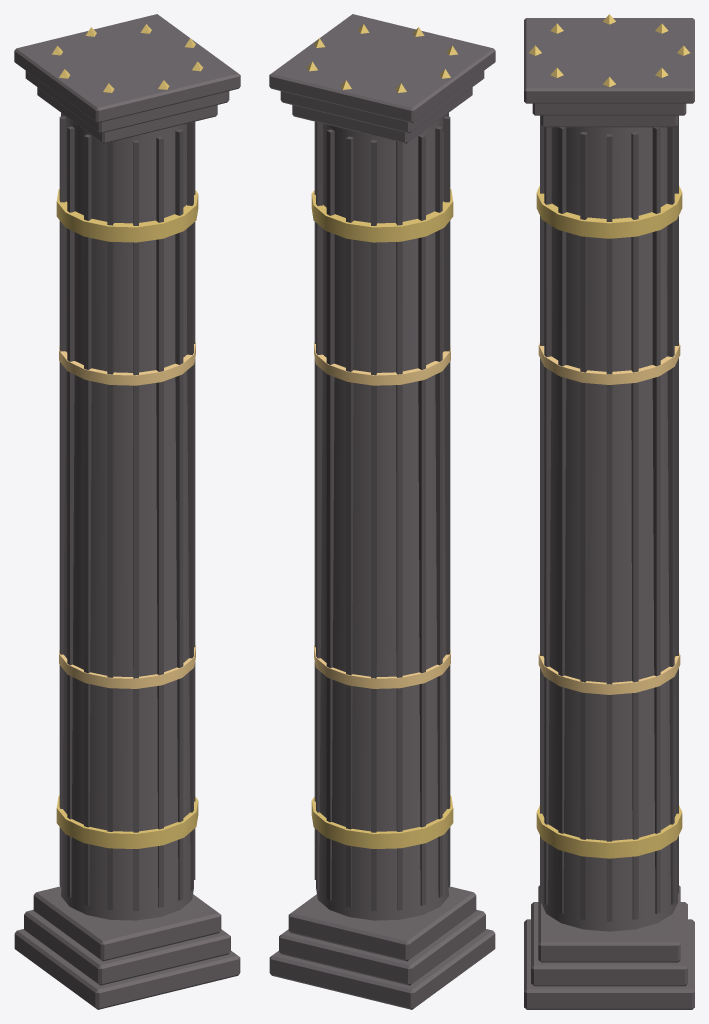
Rendered from sanctum_pillar.glb.
3 renders of one model, left to right at view 1: azimuth 30°, elevation 25°; view 2: azimuth 150°, elevation 25°; view 3: azimuth 270°, elevation 25°, orthographic. The views are drawn at different scales.
Parts seen in each view (by area): view 1: basalt, basalt*0.021, basalt*0.002, basalt*0.9, basalt*0.005, basalt*0.006, basalt*0.001, basalt*0.011, basalt*0.012, basalt*0.010, basalt*0.008, basalt*0.004 (+8 smaller); view 2: basalt, basalt*0.021, basalt*0.002, basalt*0.9, basalt*0.017, basalt*0.016, basalt*0.001, basalt*0.013, basalt*0.012, basalt*0.014, basalt*0.015, basalt*0.018 (+8 smaller); view 3: basalt, basalt*0.021, basalt*0.002, basalt*0.004, basalt*0.018, basalt*0.003, basalt*0.019, basalt*0.7, basalt*0.9, basalt*0.001, basalt*0.005, basalt*0.017 (+8 smaller).
Boxes of the visible parts, left/top/right/bottom form: basalt: left=61, top=117, right=193, bottom=920; basalt*0.021: left=14, top=14, right=240, bottom=122; basalt*0.002: left=33, top=886, right=221, bottom=961; basalt*0.9: left=14, top=929, right=240, bottom=1009; basalt*0.005: left=175, top=129, right=183, bottom=900; basalt*0.006: left=156, top=136, right=163, bottom=907; basalt*0.001: left=24, top=909, right=230, bottom=985; basalt*0.011: left=84, top=134, right=91, bottom=905; basalt*0.012: left=67, top=126, right=74, bottom=897; basalt*0.010: left=107, top=141, right=113, bottom=910; basalt*0.008: left=133, top=140, right=138, bottom=910; basalt*0.004: left=187, top=122, right=193, bottom=890; basalt: left=316, top=117, right=448, bottom=920; basalt*0.021: left=269, top=14, right=495, bottom=122; basalt*0.002: left=288, top=886, right=476, bottom=961; basalt*0.9: left=269, top=929, right=495, bottom=1009; basalt*0.017: left=326, top=129, right=334, bottom=900; basalt*0.016: left=346, top=136, right=353, bottom=907; basalt*0.001: left=279, top=909, right=485, bottom=985; basalt*0.013: left=418, top=134, right=425, bottom=905; basalt*0.012: left=435, top=126, right=442, bottom=897; basalt*0.014: left=396, top=141, right=402, bottom=910; basalt*0.015: left=371, top=140, right=376, bottom=910; basalt*0.018: left=316, top=122, right=322, bottom=890; basalt: left=541, top=127, right=677, bottom=931; basalt*0.021: left=524, top=18, right=694, bottom=103; basalt*0.002: left=538, top=885, right=680, bottom=962; basalt*0.004: left=558, top=127, right=566, bottom=913; basalt*0.018: left=652, top=127, right=660, bottom=913; basalt*0.003: left=580, top=131, right=587, bottom=919; basalt*0.019: left=631, top=131, right=638, bottom=919; basalt*0.7: left=606, top=134, right=612, bottom=921; basalt*0.9: left=524, top=919, right=694, bottom=1009; basalt*0.001: left=531, top=902, right=687, bottom=986; basalt*0.005: left=544, top=127, right=551, bottom=904; basalt*0.017: left=667, top=127, right=674, bottom=904.
Size of the model in its own units: 3 by 18 by 3.
